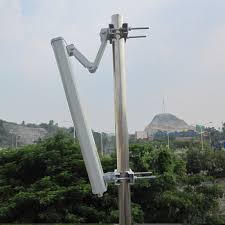sa: (28, 19, 163, 184)
